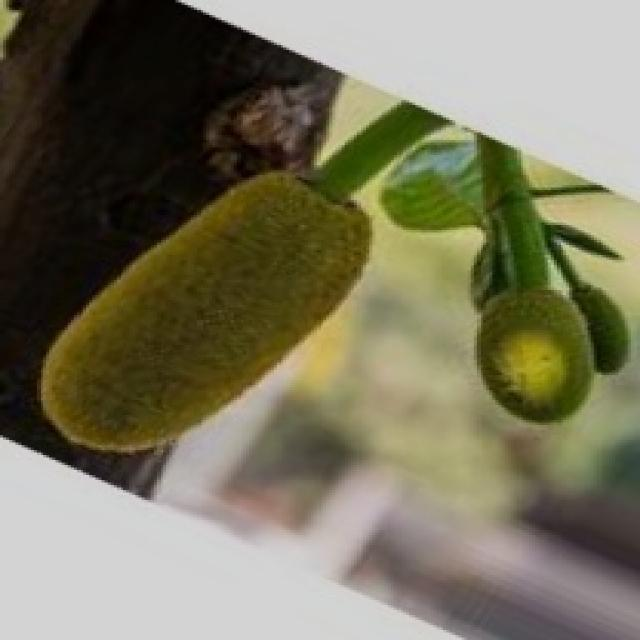Fruit: (3, 125, 403, 477), (446, 262, 634, 440)
